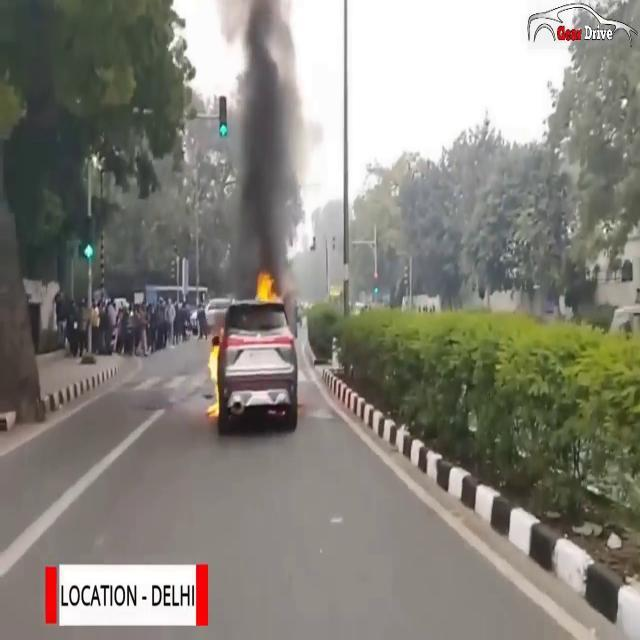Fire: (206, 336, 222, 417), (254, 265, 278, 305)
Smoke: (217, 0, 319, 294)
